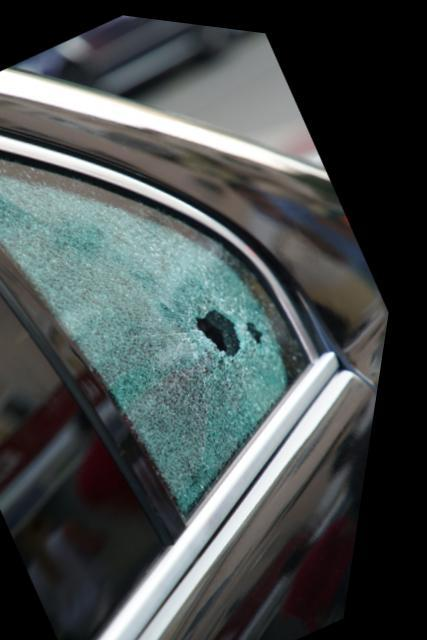glass shatter: (0, 152, 320, 514)
